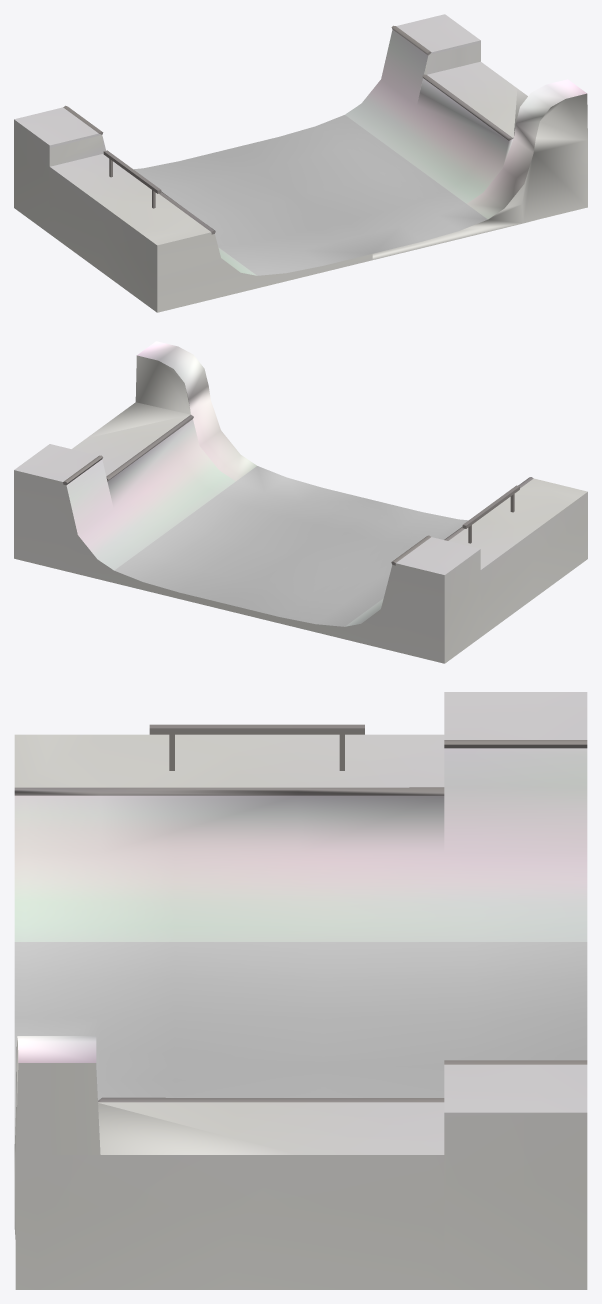
Rendered from HalfPipeExtensionRollinCement.glb.
3 renders of one model, top to bottom at view 1: azimuth 30°, elevation 25°; view 2: azimuth 150°, elevation 25°; view 3: azimuth 270°, elevation 25°, orthographic. The views are drawn at different scales.
Parts seen in each view (by area): view 1: HalfPipeExtensionRollinCement; view 2: HalfPipeExtensionRollinCement; view 3: HalfPipeExtensionRollinCement.
Boxes of the visible parts, left/top/right/bottom form: HalfPipeExtensionRollinCement: left=14, top=14, right=587, bottom=312; HalfPipeExtensionRollinCement: left=14, top=341, right=587, bottom=663; HalfPipeExtensionRollinCement: left=14, top=692, right=587, bottom=1289.
Bounding box in the file's own units: 13.9 × 3.5 × 8.
1 material, 1 textured.
